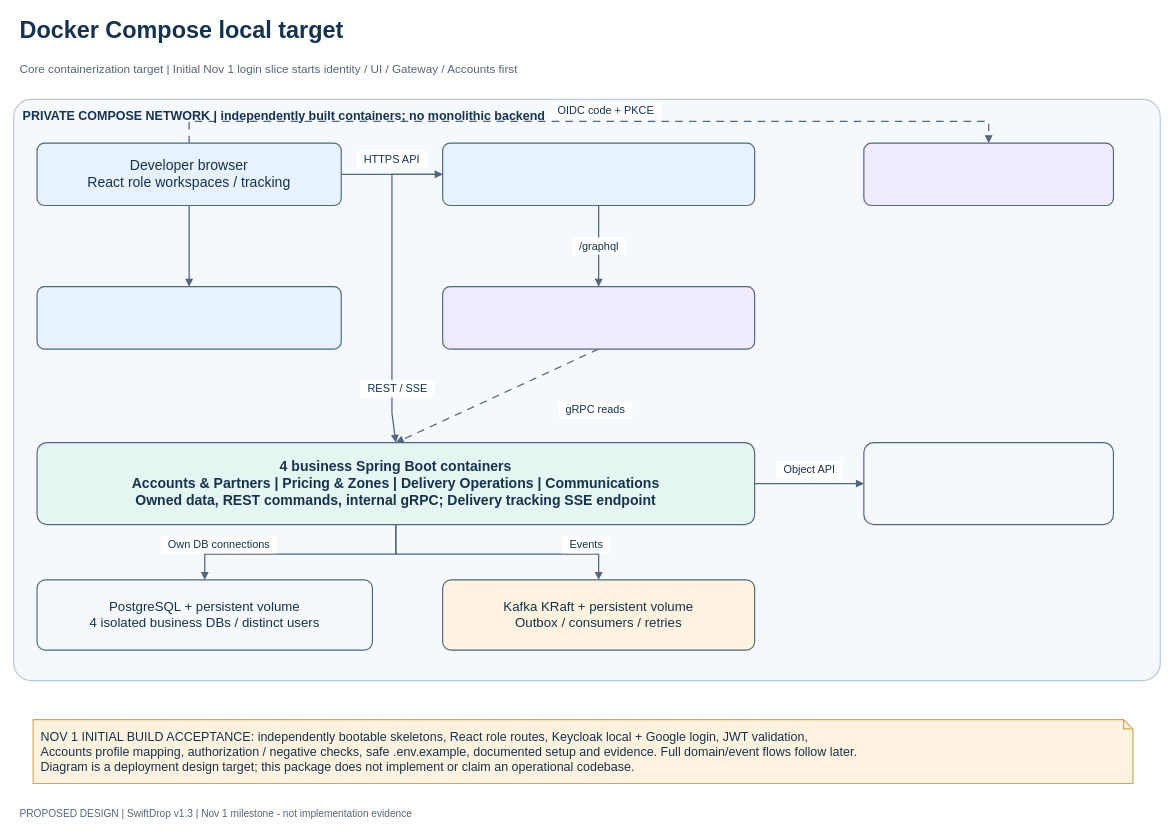
This 1175x838 diagram has some shape labels left out. The shapes that lost their labels are listed below. From the top down, each one's centre as x and y in pixels, then its label:
At (598,174): "Gateway Versioned REST / GraphQL / SSE".
At (988,174): "Keycloak + identity DB Google broker configured".
At (188,317): "Frontend NGINX / Vite dev Static UI; configurable API origin".
At (598,317): "ONE read-only GraphQL Query API No business database".
At (988,483): "Private object storage Proof / receipts Persistent volume".
